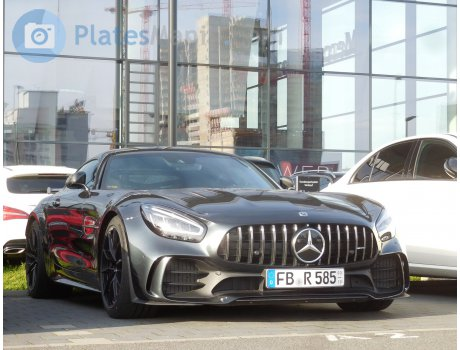License Plates: (274, 269, 340, 283)
